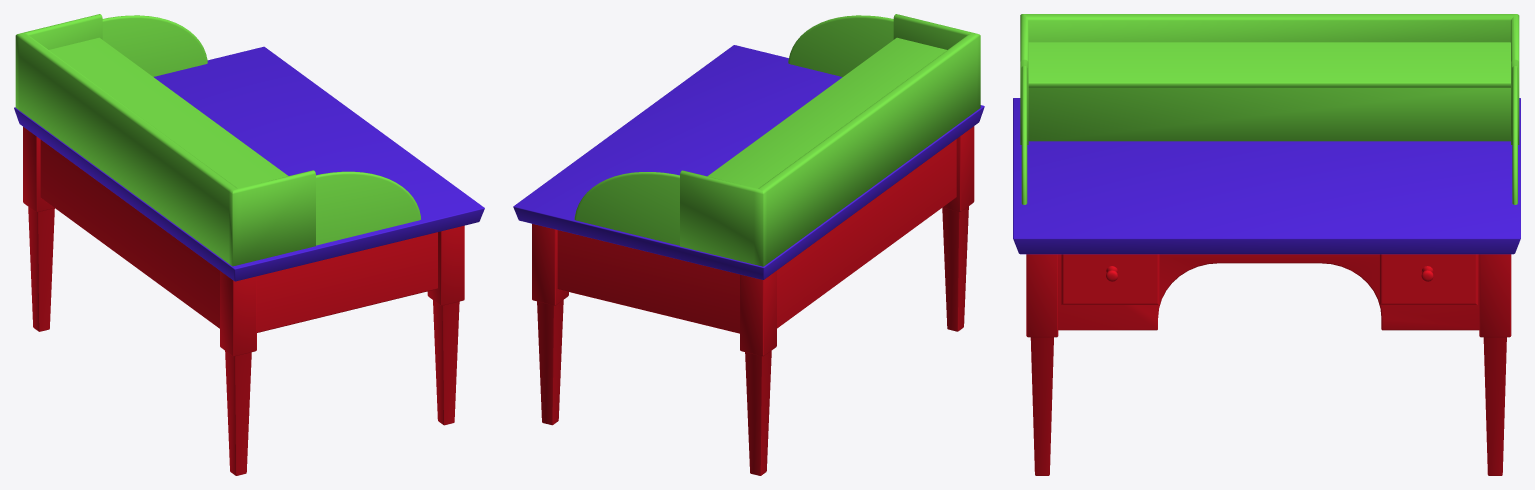
The model's file is Bureau.fbx.
The picture shows the model from 3 angles, left to right: view 1: azimuth 30°, elevation 25°; view 2: azimuth 150°, elevation 25°; view 3: azimuth 270°, elevation 25°; orthographic projection. The views are drawn at different scales.
Visible parts, largest first — view 1: Cube.002, Cube.001, Cube, Cylinder; view 2: Cube.002, Cube.001, Cube, Cylinder; view 3: Cube.001, Cube, Cube.002, Cube.004, Cylinder.
Part boxes in pixels (bbox=[...]): Cube.002: bbox=[23, 127, 464, 475]; Cube.001: bbox=[15, 14, 315, 266]; Cube: bbox=[14, 46, 484, 281]; Cylinder: bbox=[102, 15, 420, 245]; Cube.002: bbox=[532, 126, 974, 475]; Cube.001: bbox=[680, 14, 980, 266]; Cube: bbox=[513, 45, 984, 279]; Cylinder: bbox=[574, 15, 893, 245]; Cube.001: bbox=[1020, 14, 1519, 144]; Cube: bbox=[1013, 98, 1520, 254]; Cube.002: bbox=[1026, 254, 1511, 475]; Cube.004: bbox=[1061, 254, 1477, 304]; Cylinder: bbox=[1021, 66, 1517, 204].
Bounding box in the file's own units: 298 × 332 × 455.
